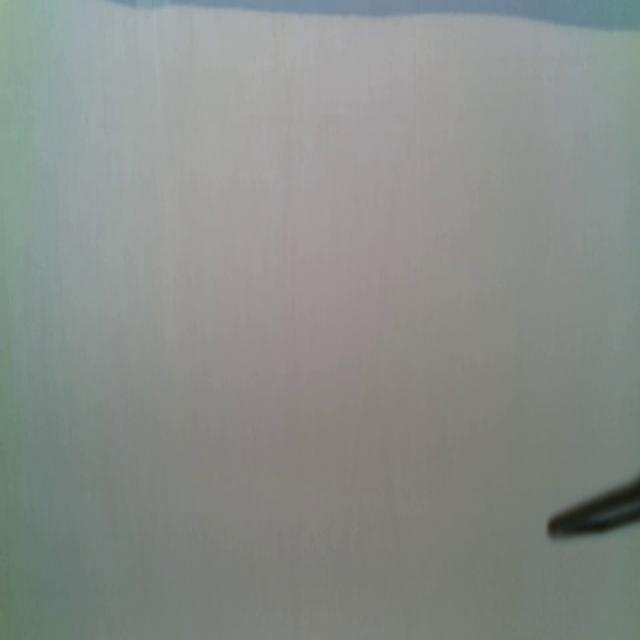color bleeding: (92, 0, 640, 36)
